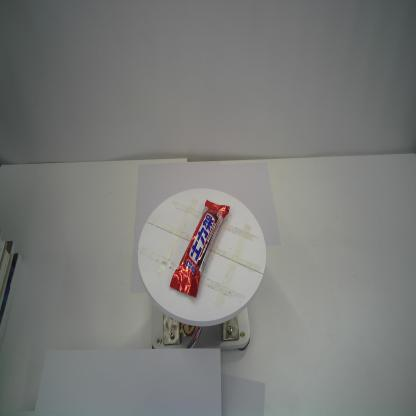Chocolate: (168, 199, 231, 298)
